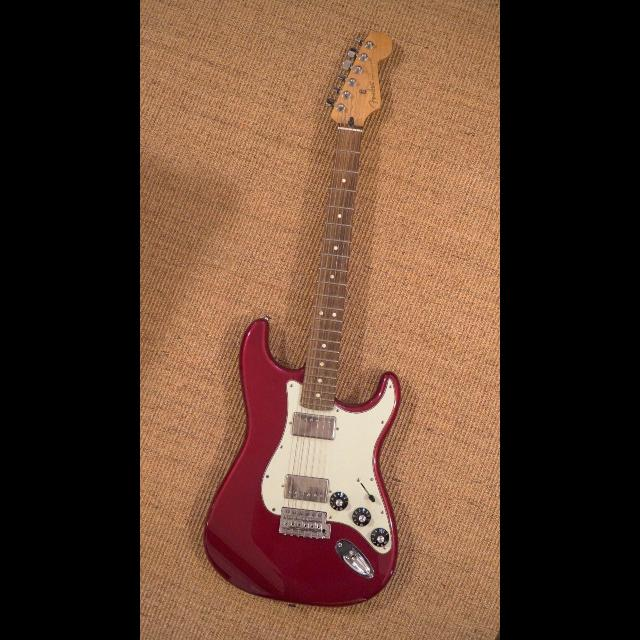Electric-Guitar: (204, 13, 410, 629)
